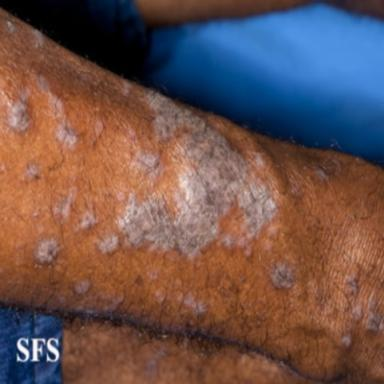lichen: (115, 88, 277, 262), (37, 75, 77, 148), (3, 87, 30, 132), (132, 150, 162, 185), (52, 186, 77, 224), (73, 204, 97, 233), (35, 237, 59, 263), (271, 263, 295, 289), (184, 293, 207, 316), (366, 298, 381, 331), (98, 234, 119, 253), (311, 161, 329, 181), (93, 117, 104, 144), (24, 161, 40, 179), (73, 278, 91, 294), (347, 274, 359, 296), (239, 237, 252, 257), (33, 29, 45, 48), (155, 286, 166, 305), (222, 234, 235, 248), (352, 305, 362, 322), (341, 333, 352, 348), (122, 79, 131, 96), (147, 268, 159, 280), (116, 190, 127, 201), (6, 21, 15, 32)
